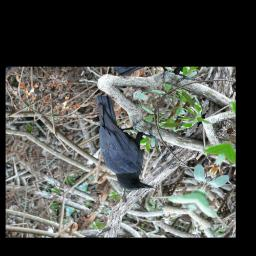Crow: (57, 90, 190, 198)
